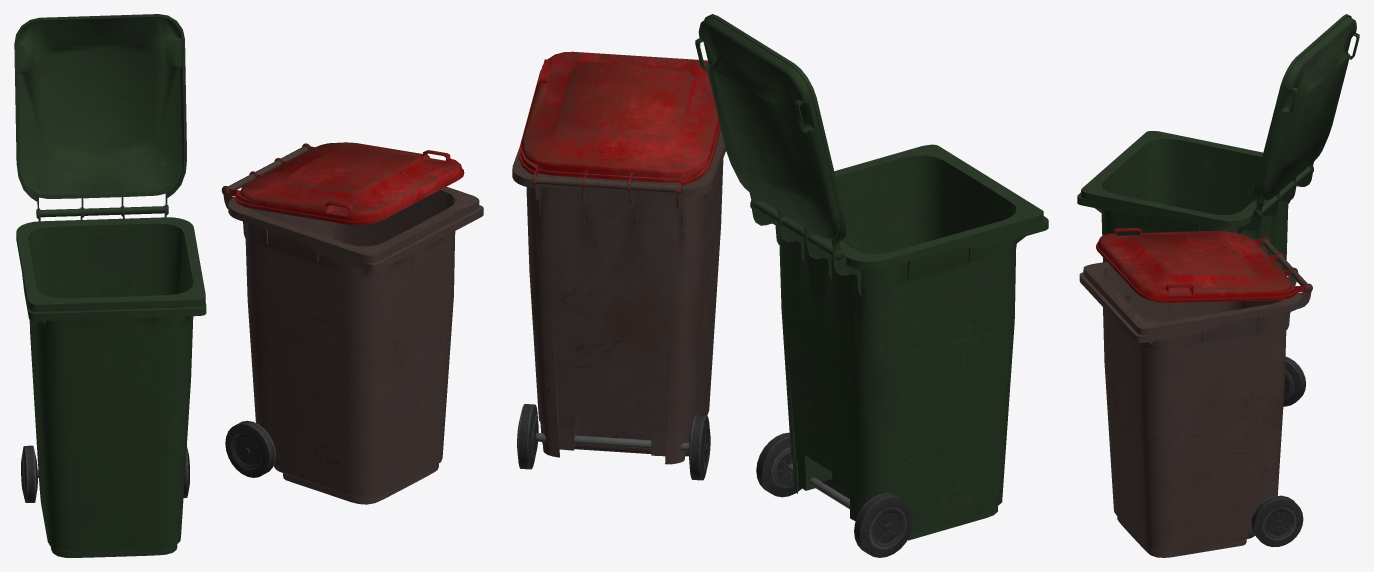
Rendered from Mesh_Rubbish_Bin.fbx.
3 views of the same model, side by side, from view 1: azimuth 30°, elevation 25°; view 2: azimuth 150°, elevation 25°; view 3: azimuth 270°, elevation 25° (orthographic). The views are drawn at different scales.
Parts seen in each view (by area): view 1: Mesh_Rubbish_Bin_01_Down, Mesh_Rubbish_Bin_02_Down, Mesh_Rubbish_Bin_02_Up, Mesh_Rubbish_Bin_01_Up; view 2: Mesh_Rubbish_Bin_02_Down, Mesh_Rubbish_Bin_01_Down, Mesh_Rubbish_Bin_01_Up, Mesh_Rubbish_Bin_02_Up; view 3: Mesh_Rubbish_Bin_01_Down, Mesh_Rubbish_Bin_02_Down, Mesh_Rubbish_Bin_01_Up, Mesh_Rubbish_Bin_02_Up.
Part boxes in pixels (x1,y1,x2,y2): Mesh_Rubbish_Bin_01_Down: (222,144,483,504); Mesh_Rubbish_Bin_02_Down: (16,204,206,557); Mesh_Rubbish_Bin_02_Up: (14,14,186,219); Mesh_Rubbish_Bin_01_Up: (221,142,464,225); Mesh_Rubbish_Bin_02_Down: (751,144,1048,557); Mesh_Rubbish_Bin_01_Down: (512,129,726,480); Mesh_Rubbish_Bin_01_Up: (519,51,720,195); Mesh_Rubbish_Bin_02_Up: (695,14,845,260); Mesh_Rubbish_Bin_01_Down: (1079,238,1312,557); Mesh_Rubbish_Bin_02_Down: (1077,131,1313,406); Mesh_Rubbish_Bin_01_Up: (1096,228,1312,302); Mesh_Rubbish_Bin_02_Up: (1253,14,1359,218).
Bounding box in the file's own units: 180 × 171 × 107.
1 material, 1 textured.
